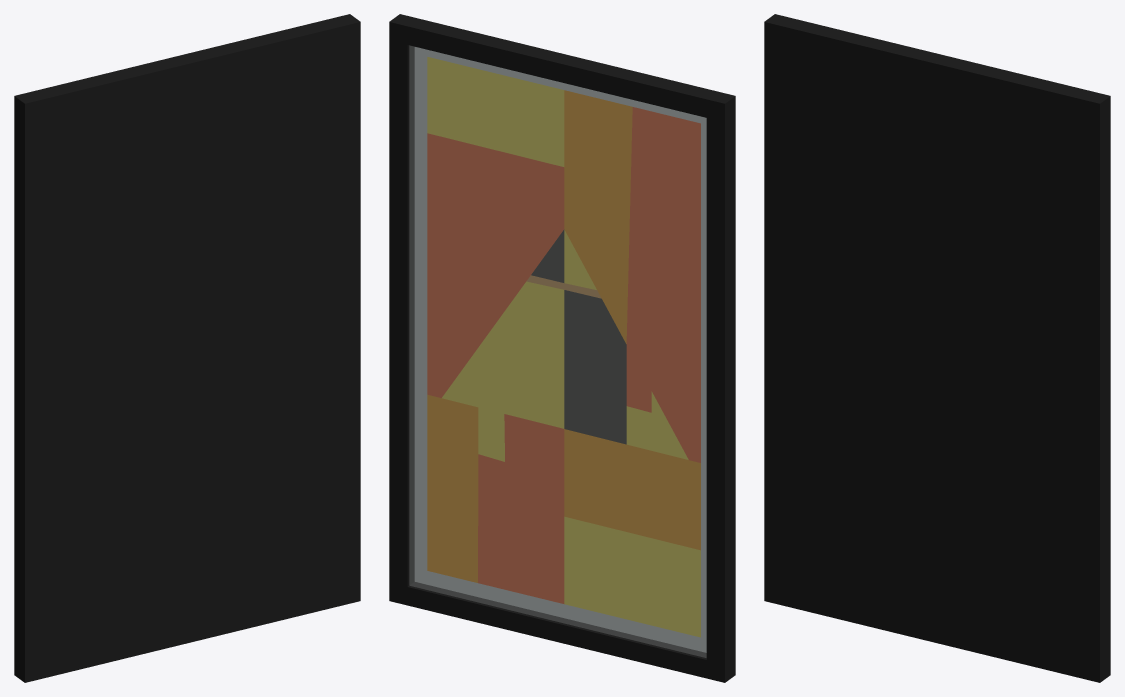
Rendered from Painting1.fbx.
3 renders of one model, left to right at view 1: azimuth 30°, elevation 25°; view 2: azimuth 150°, elevation 25°; view 3: azimuth 330°, elevation 25°, orthographic.
Visible parts, largest first — view 1: model.001; view 2: model.001; view 3: model.001.
Part boxes in pixels (x1=…): model.001: x1=14, y1=14, x2=360, y2=682; model.001: x1=389, y1=14, x2=735, y2=682; model.001: x1=764, y1=14, x2=1110, y2=682.
Bounding box in the file's own units: 54 × 89 × 3.
